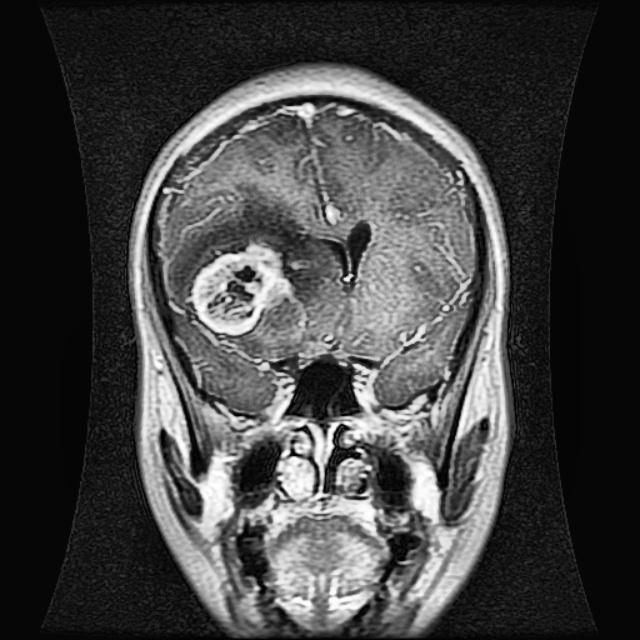Meningioma: (180, 234, 307, 340)
